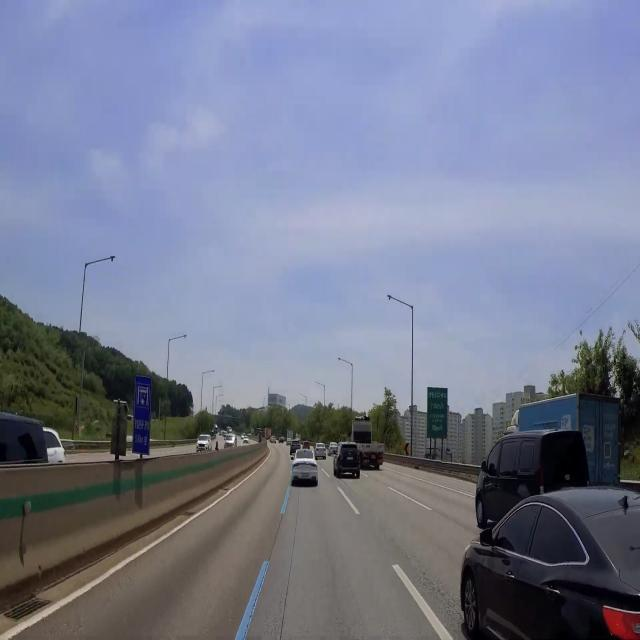car: (298, 471, 312, 484), (369, 450, 379, 464), (345, 455, 358, 464)
